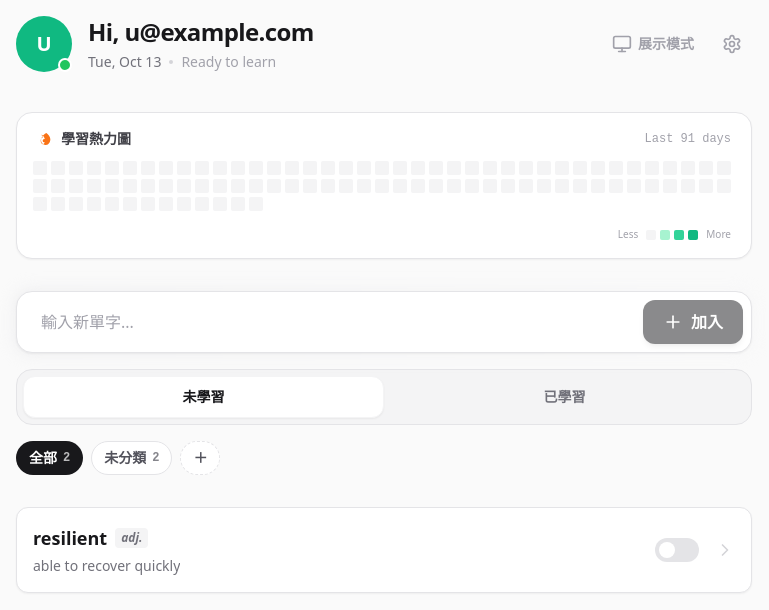
Scenario: ready:顯示未學習分頁的字、email;已熟悉的字在另一分頁
Expected: the text "u@example.com" is shown, [124, 16, 314, 48]
Expected: the heading "resilient" is shown, [33, 524, 107, 552]
Click the button "已學習". click: (564,397)
box: [384, 376, 745, 418]
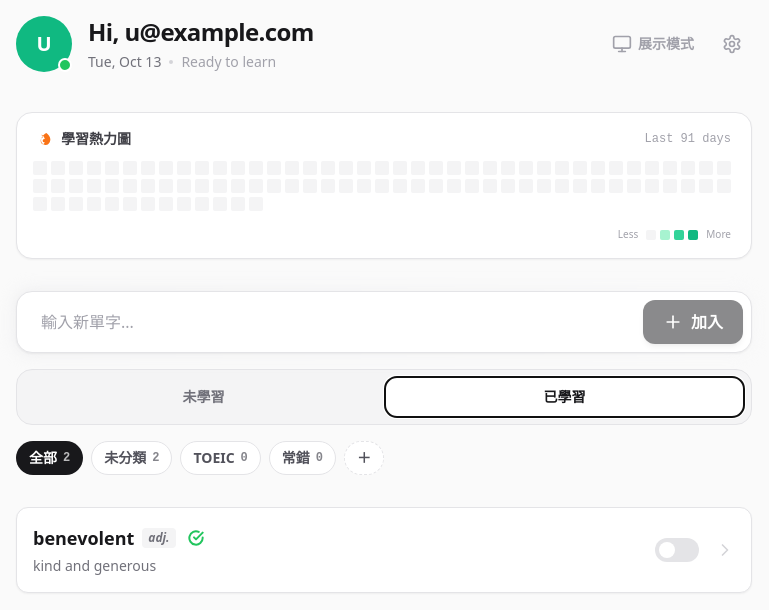
Result: the heading "benevolent" is shown at [33, 524, 134, 552]
Result: the heading "resilient" is gone
